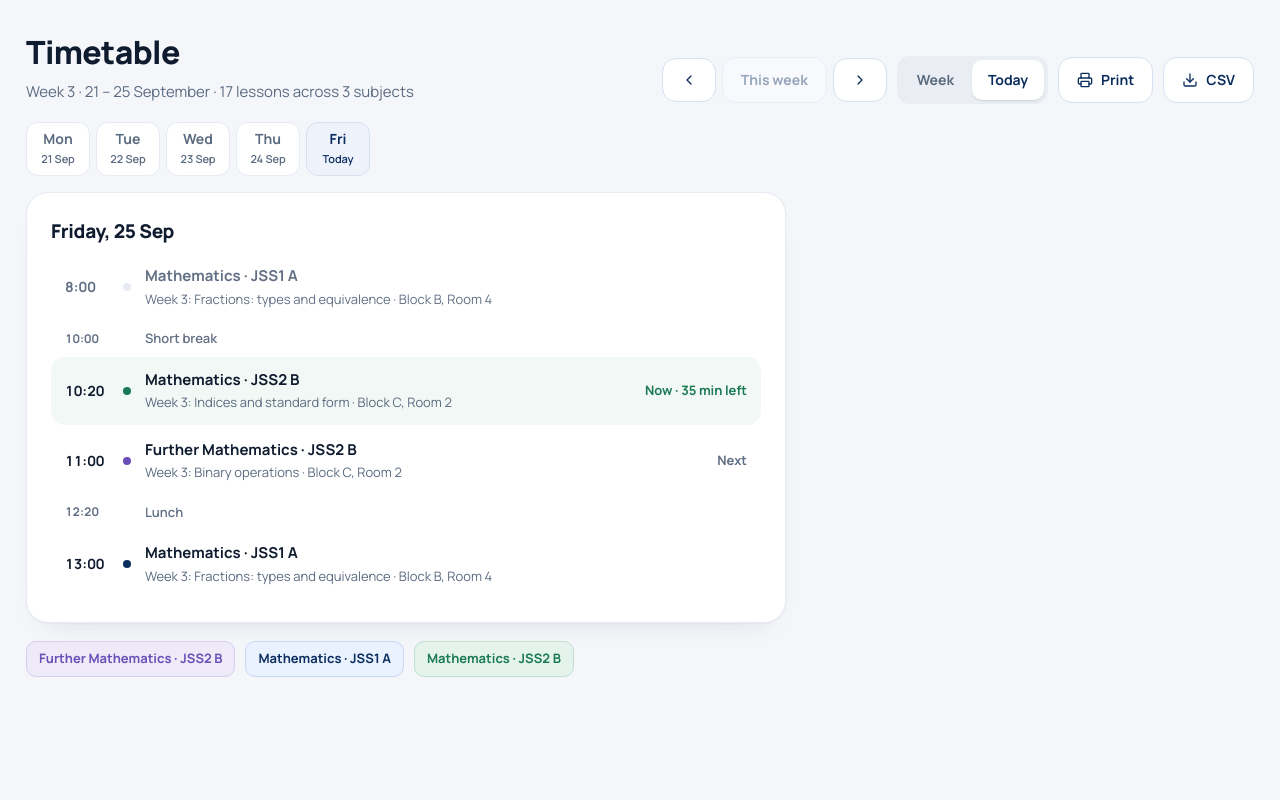
Test: one day at a time › defaults to today's tab and switches days
Expected: the tab "Fri Today" is shown, [306,122,370,176]
Expected: the heading "Friday, 25 Sep" is shown, [51,218,174,244]
Click the tab "Mon 21 Sep": (58, 148) [26,122,90,176]
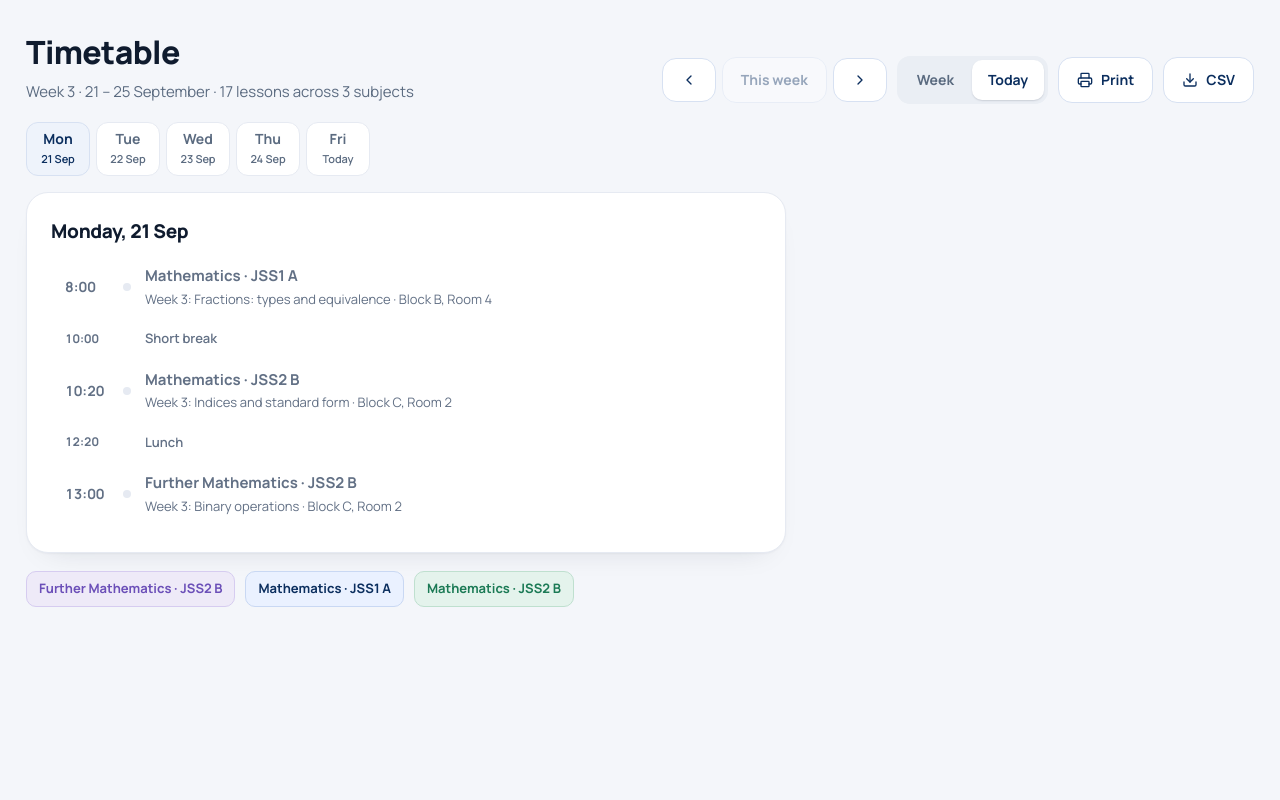
Expected: the heading "Monday, 21 Sep" is shown, [51,218,188,244]
